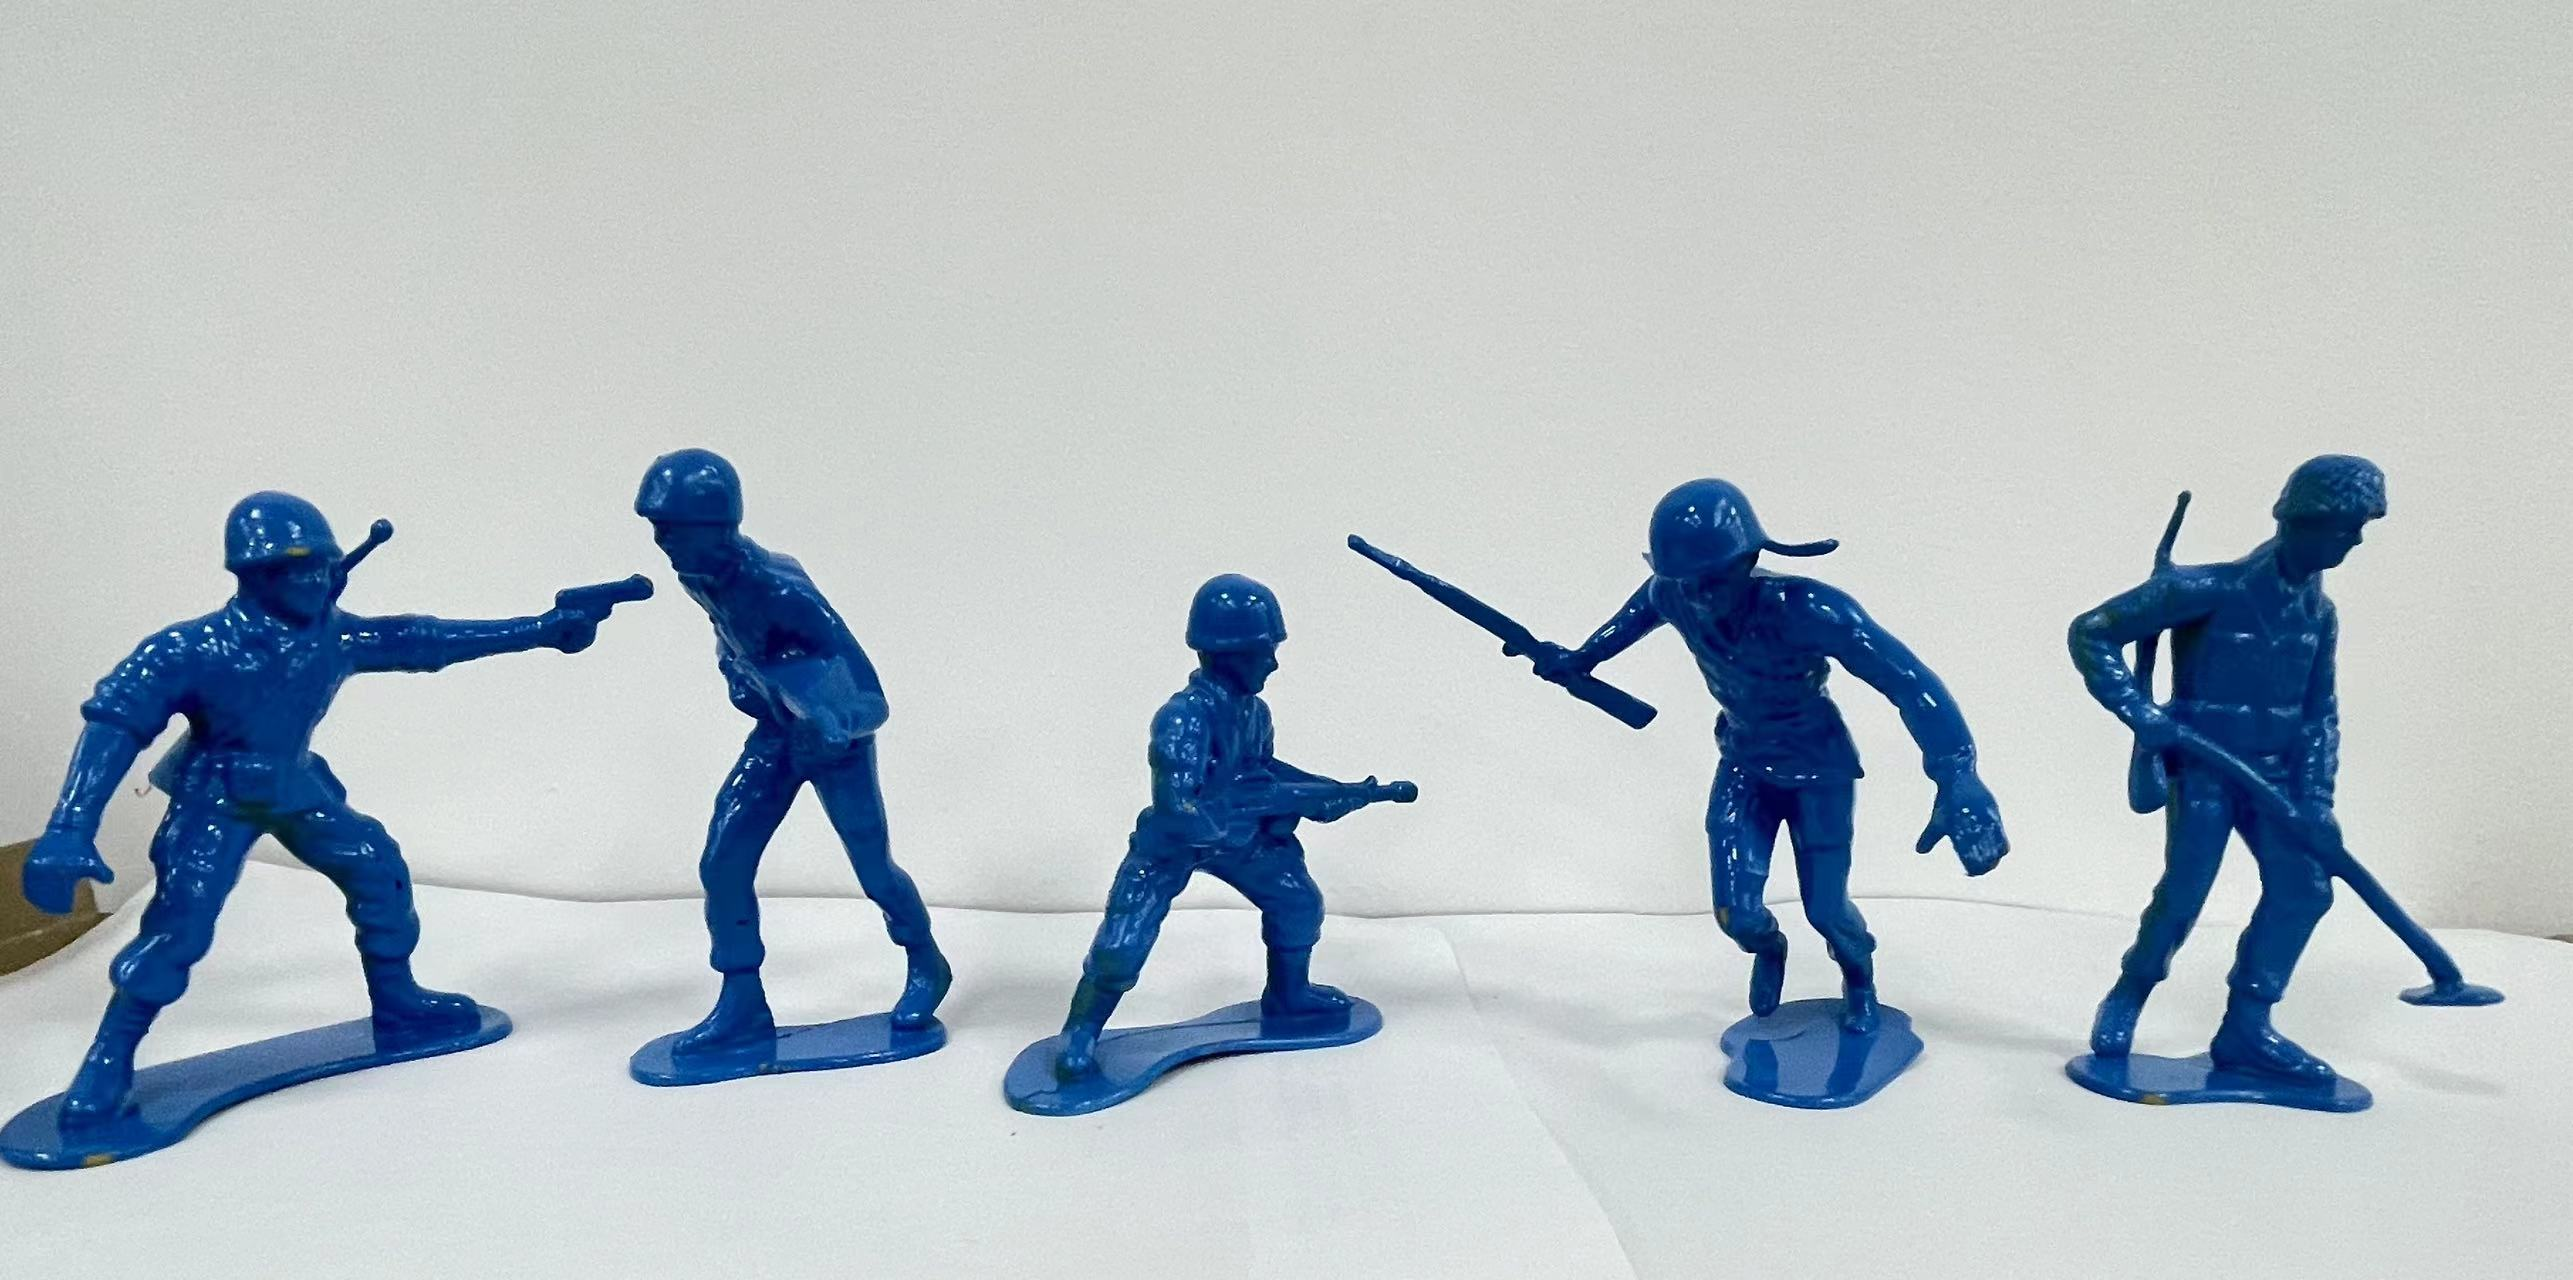blue: (1406, 395, 2005, 1188), (43, 432, 638, 1180), (2054, 373, 2539, 1168), (583, 400, 975, 1116), (1009, 528, 1414, 1213)
